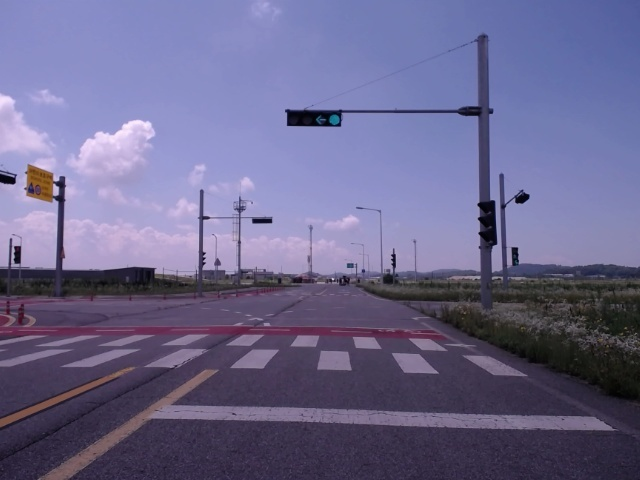all_green_4: (284, 109, 347, 130)
